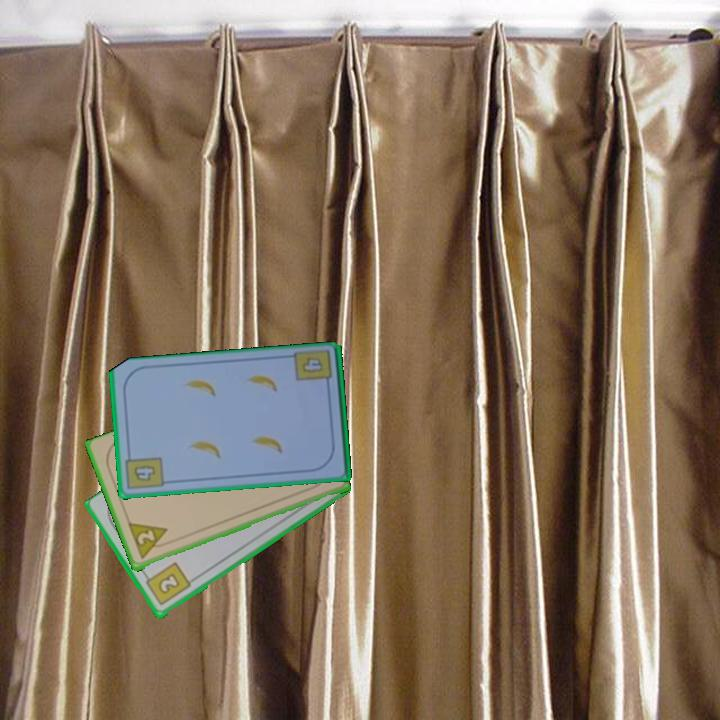2b: (141, 559, 193, 609)
2p: (125, 520, 174, 562)
4b: (122, 449, 166, 493), (298, 354, 326, 376)
